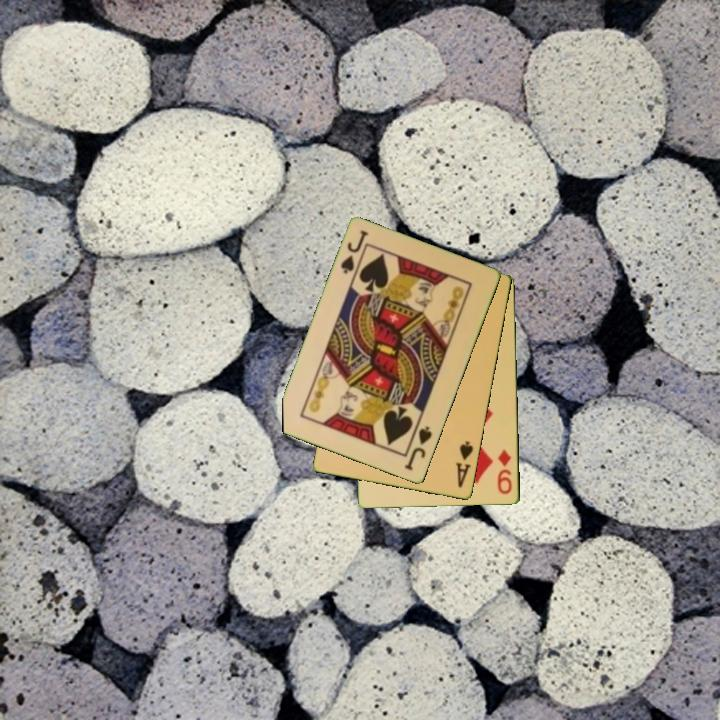9d: (494, 446, 515, 497)
As: (452, 438, 476, 491)
Js: (337, 227, 372, 277), (401, 423, 435, 474)
